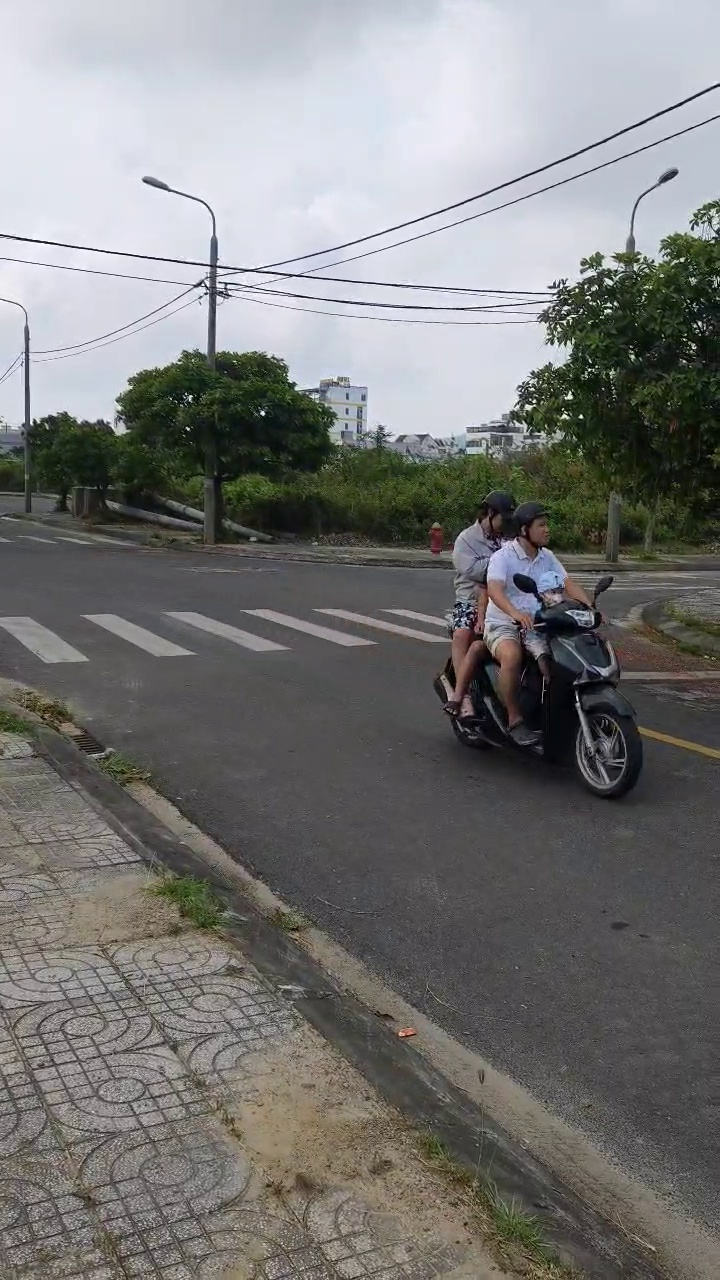no_helmet: (511, 502, 555, 568), (473, 490, 510, 547)
